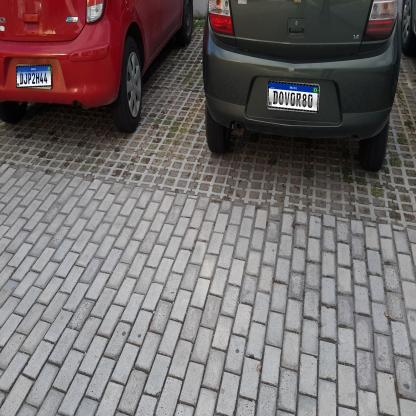PlacaM: (267, 81, 319, 112), (16, 64, 52, 88)
